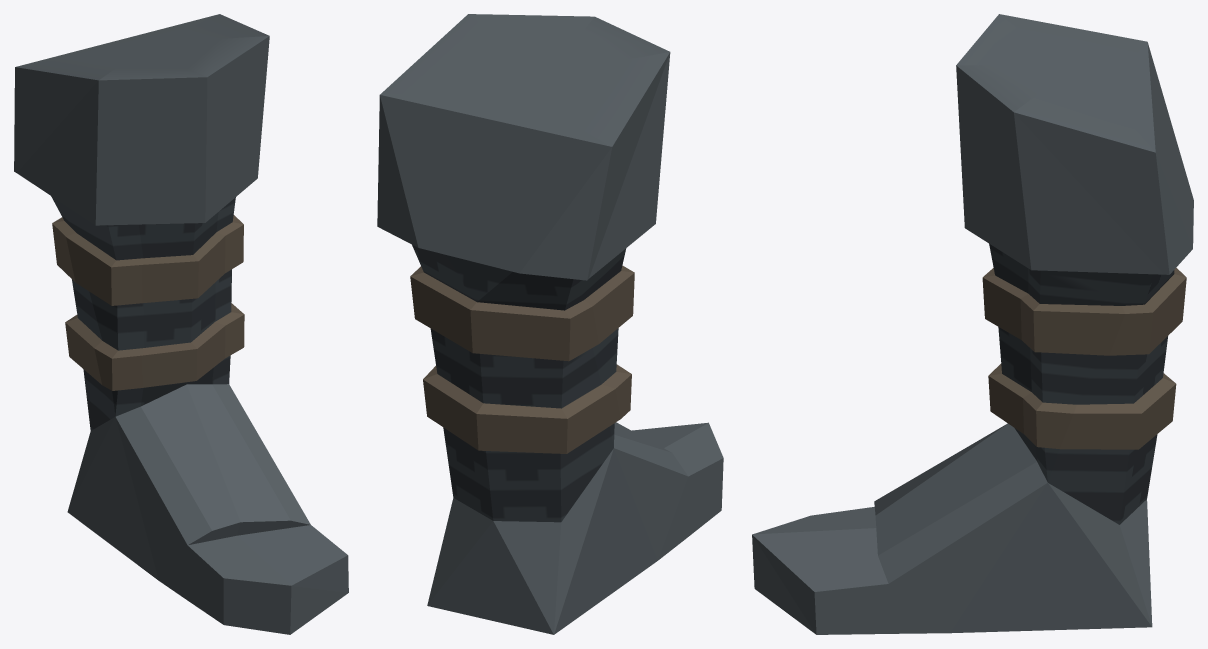
File: Chr_LegRight_Male_07_Static.fbx
The picture shows the model from 3 angles, left to right: view 1: azimuth 30°, elevation 25°; view 2: azimuth 150°, elevation 25°; view 3: azimuth 270°, elevation 25°; orthographic projection. The views are drawn at different scales.
Parts seen in each view (by area): view 1: Chr_LegRight_Male_07_Static; view 2: Chr_LegRight_Male_07_Static; view 3: Chr_LegRight_Male_07_Static.
Boxes of the visible parts, box(x1,y1,x2,y2) form: Chr_LegRight_Male_07_Static: box(14, 14, 348, 634); Chr_LegRight_Male_07_Static: box(377, 14, 723, 634); Chr_LegRight_Male_07_Static: box(752, 14, 1193, 634).
Bounding box in the file's own units: 0.1816 × 0.4088 × 0.3071.
